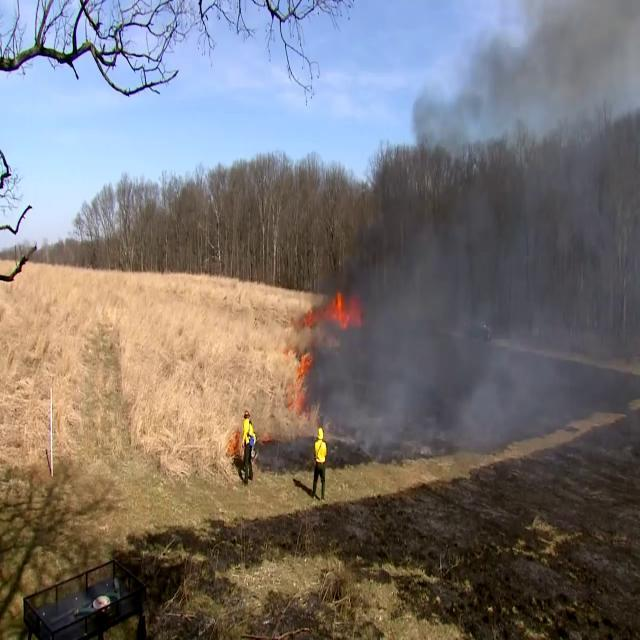Fire: (300, 292, 360, 329), (226, 428, 242, 456), (298, 352, 312, 375)
